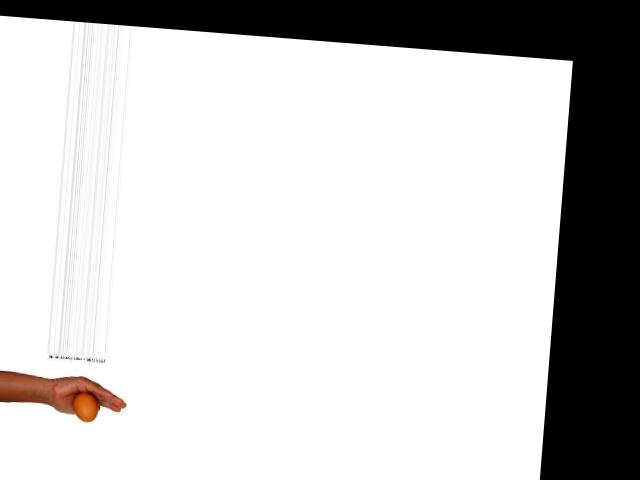egg: (72, 390, 100, 422)
